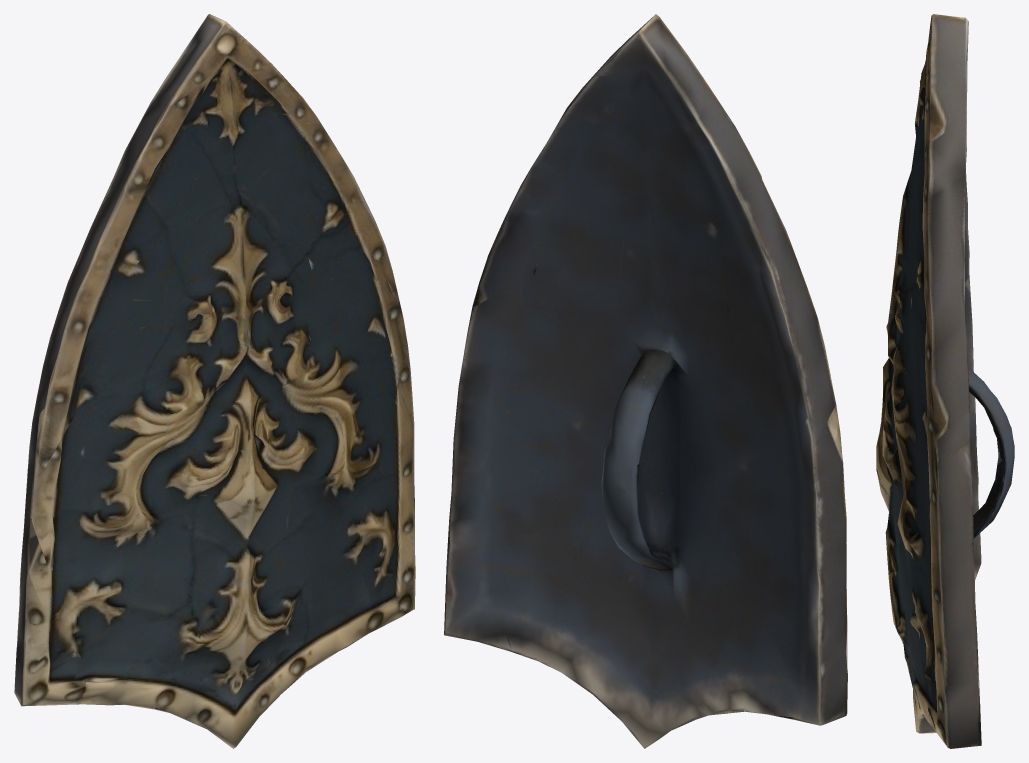
File: 1732_shield.glb
3 renders of one model, left to right at view 1: azimuth 30°, elevation 25°; view 2: azimuth 150°, elevation 25°; view 3: azimuth 270°, elevation 25°, orthographic.
Visible parts, largest first — view 1: Model; view 2: Model; view 3: Model.
Boxes of the visible parts, x1=… form: Model: x1=14, y1=14, x2=415, y2=748; Model: x1=444, y1=14, x2=847, y2=748; Model: x1=876, y1=14, x2=1014, y2=748.
Size of the model in its own units: 0.5688 by 1 by 0.1746.
1 material, 1 textured.
